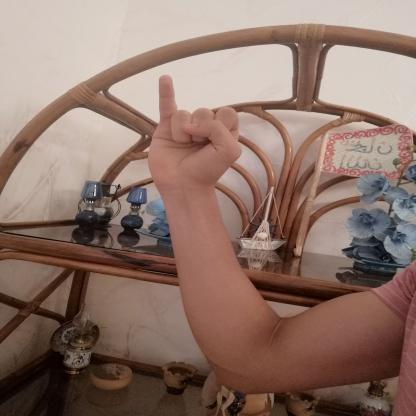MEEM: (127, 65, 258, 202)
